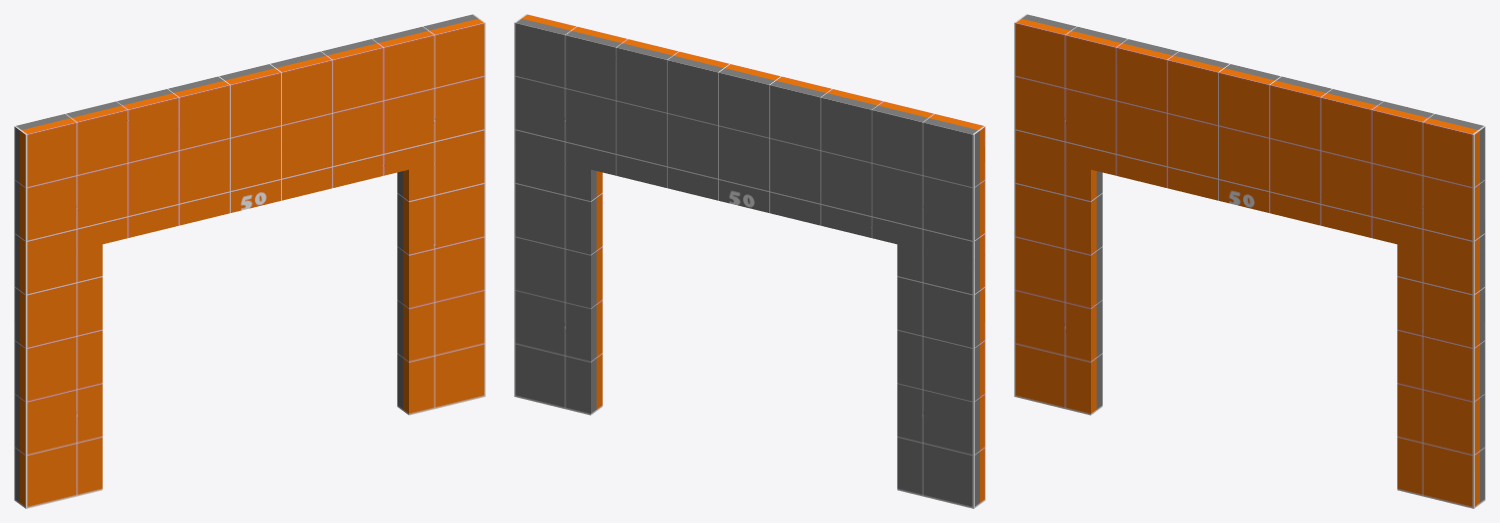
Rendered from M01WallDoorTypeB_1.FBX.
The picture shows the model from 3 angles, left to right: view 1: azimuth 30°, elevation 25°; view 2: azimuth 150°, elevation 25°; view 3: azimuth 330°, elevation 25°; orthographic projection.
Visible parts, largest first — view 1: M01WallDoorTypeB_1; view 2: M01WallDoorTypeB_1; view 3: M01WallDoorTypeB_1.
Part boxes in pixels (box(x1,y1,x2,y2)): M01WallDoorTypeB_1: box(14, 14, 485, 508); M01WallDoorTypeB_1: box(514, 14, 985, 508); M01WallDoorTypeB_1: box(1014, 14, 1485, 508).
Size of what is drawn, in the model's own units: 4.5 by 3.5 by 0.2.
